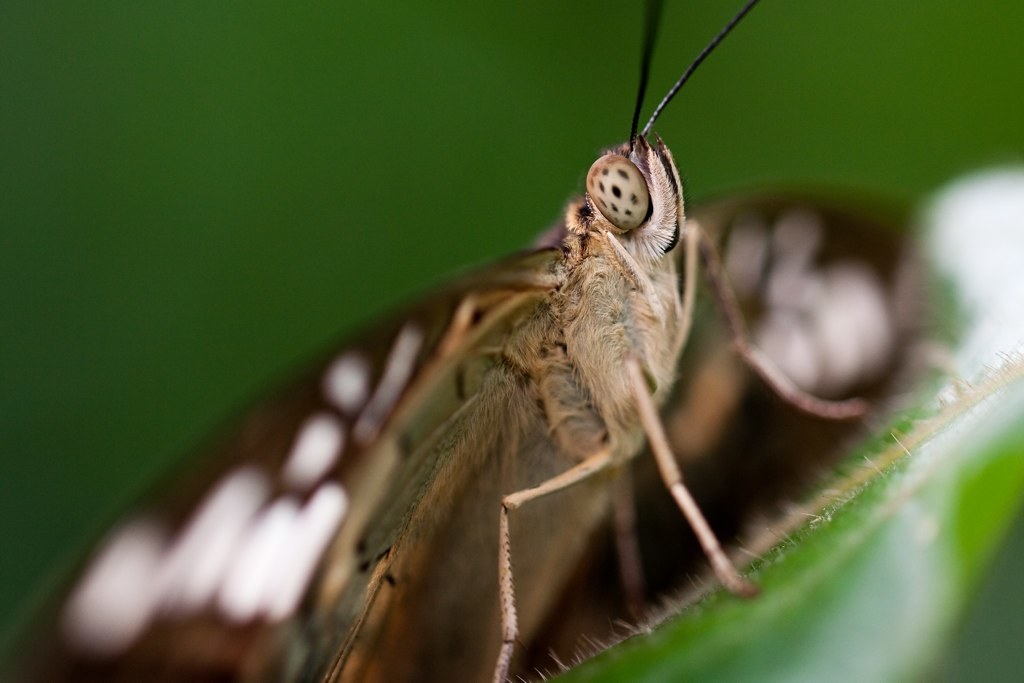Butterfly: (35, 101, 844, 673)
